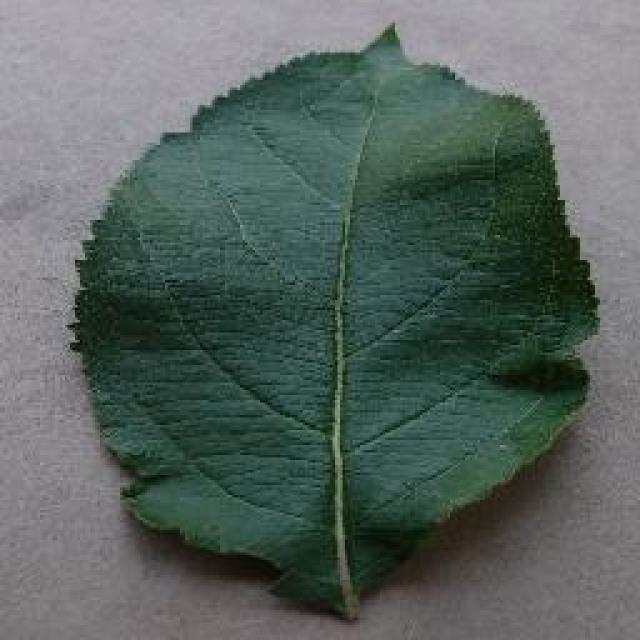apple healthy: (65, 18, 600, 620)
